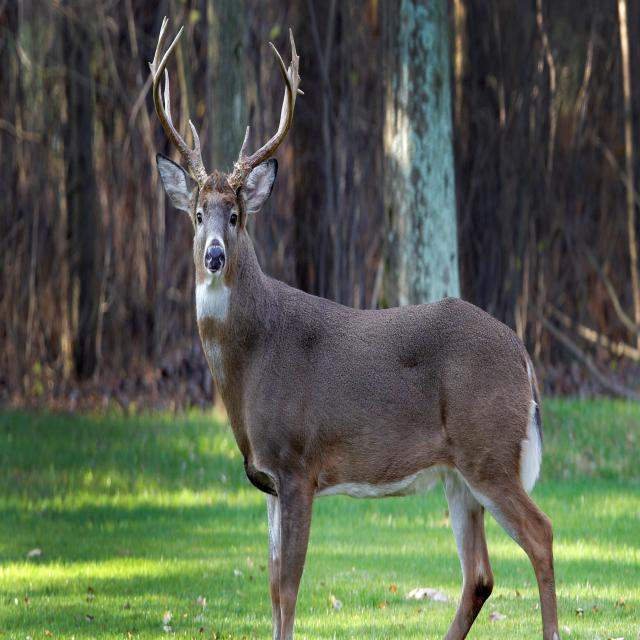deer: (150, 18, 559, 640)
